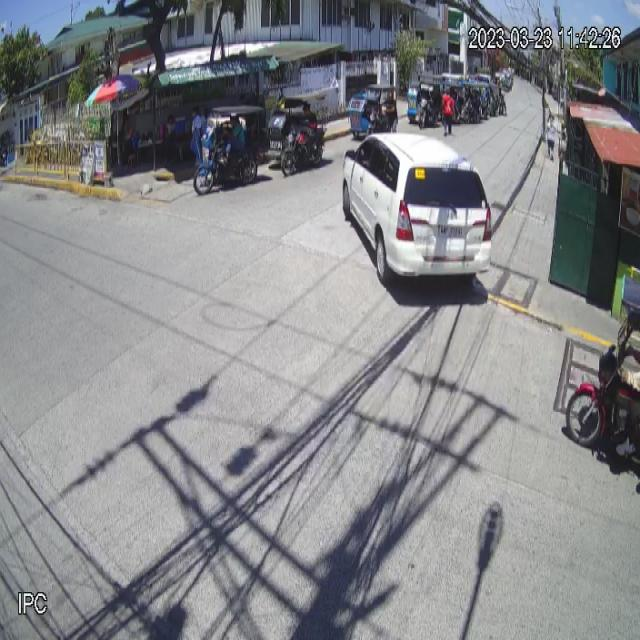Car: (342, 128, 491, 292)
